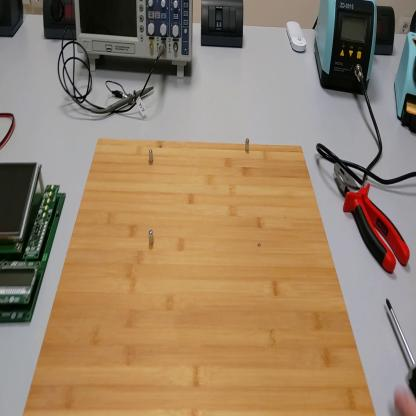hand: (396, 392, 416, 415)
low voltage board: (1, 160, 68, 327)
oscilloscope: (78, 1, 193, 78)
oscilloscope probe tip: (94, 86, 154, 117)
pliers: (333, 162, 412, 277)
screwdriver-: (386, 298, 416, 390)
socket: (43, 1, 77, 43), (374, 6, 397, 56), (2, 3, 27, 39), (408, 10, 416, 34)
welder base: (396, 30, 416, 135)
welder station: (316, 1, 379, 97)
working area: (23, 136, 376, 415)
